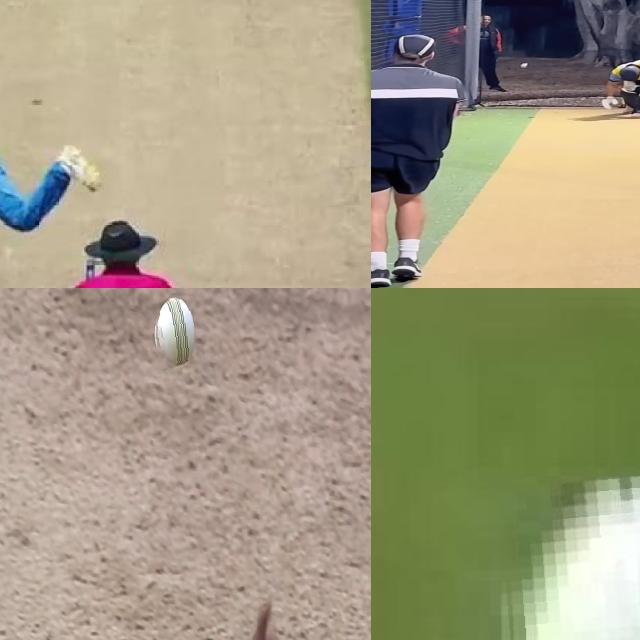Cricket ball: (497, 476, 640, 640), (153, 295, 194, 369), (520, 63, 529, 68)
